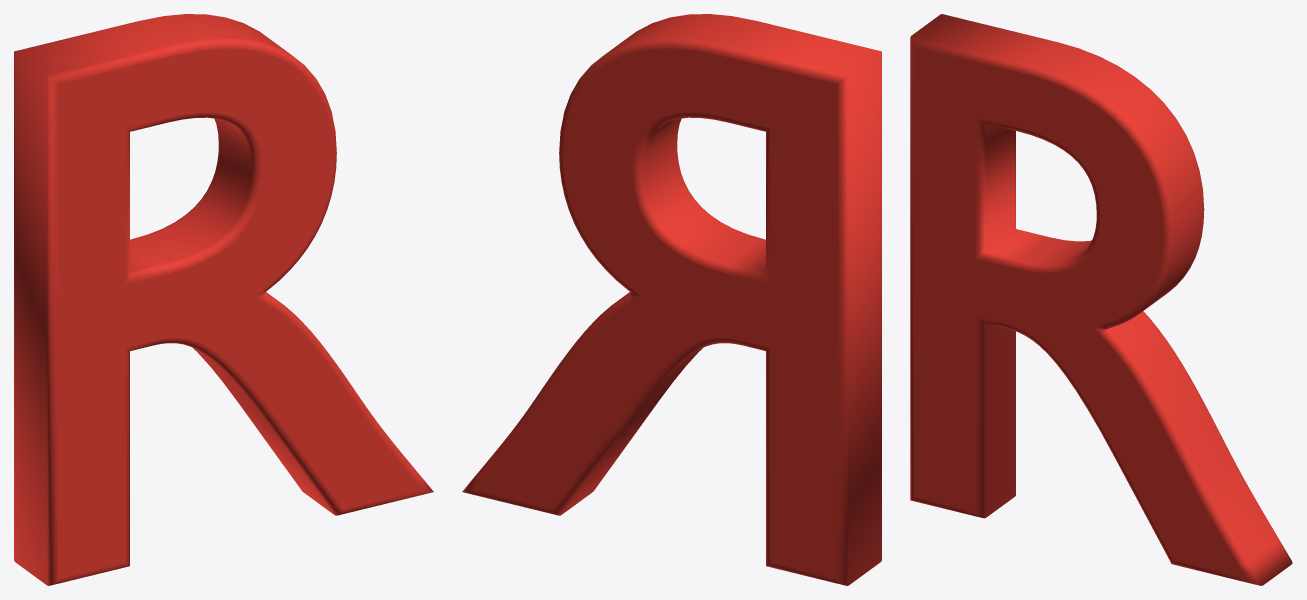
3 renders of one model, left to right at view 1: azimuth 30°, elevation 25°; view 2: azimuth 150°, elevation 25°; view 3: azimuth 330°, elevation 25°, orthographic. The views are drawn at different scales.
Visible parts, largest first — view 1: Text; view 2: Text; view 3: Text.
Boxes of the visible parts, x1,y1,x2,y2 form: Text: (14,14,433,585); Text: (462,14,881,585); Text: (910,14,1292,585).
Size of the model in its own units: 1.42 by 1.79 by 0.2551.
